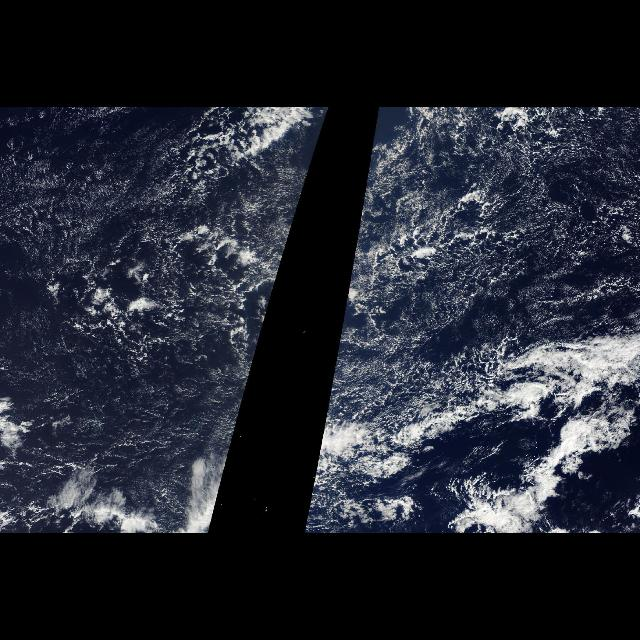Gravel: (326, 107, 640, 533), (130, 107, 328, 365)
Sugar: (0, 116, 232, 478)
